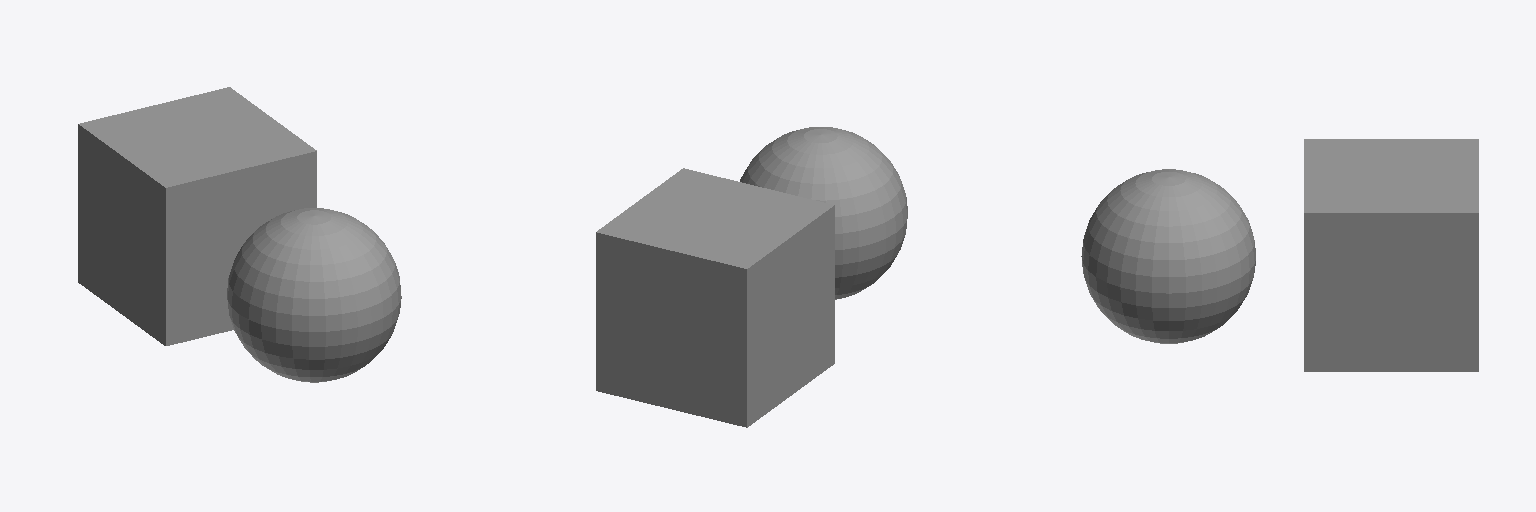
The model's file is cubo.obj.
3 views of the same model, side by side, from view 1: azimuth 30°, elevation 25°; view 2: azimuth 150°, elevation 25°; view 3: azimuth 270°, elevation 25° (orthographic).
Parts seen in each view (by area): view 1: Cube, Sphere; view 2: Cube, Sphere; view 3: Cube, Sphere.
Part boxes in pixels (bbox=[...]): Cube: bbox=[78, 87, 316, 345]; Sphere: bbox=[227, 208, 401, 382]; Cube: bbox=[596, 168, 834, 427]; Sphere: bbox=[740, 127, 907, 299]; Cube: bbox=[1304, 139, 1478, 371]; Sphere: bbox=[1081, 169, 1255, 343].
Size of the model in its own units: 2.07 by 2.02 by 4.54.